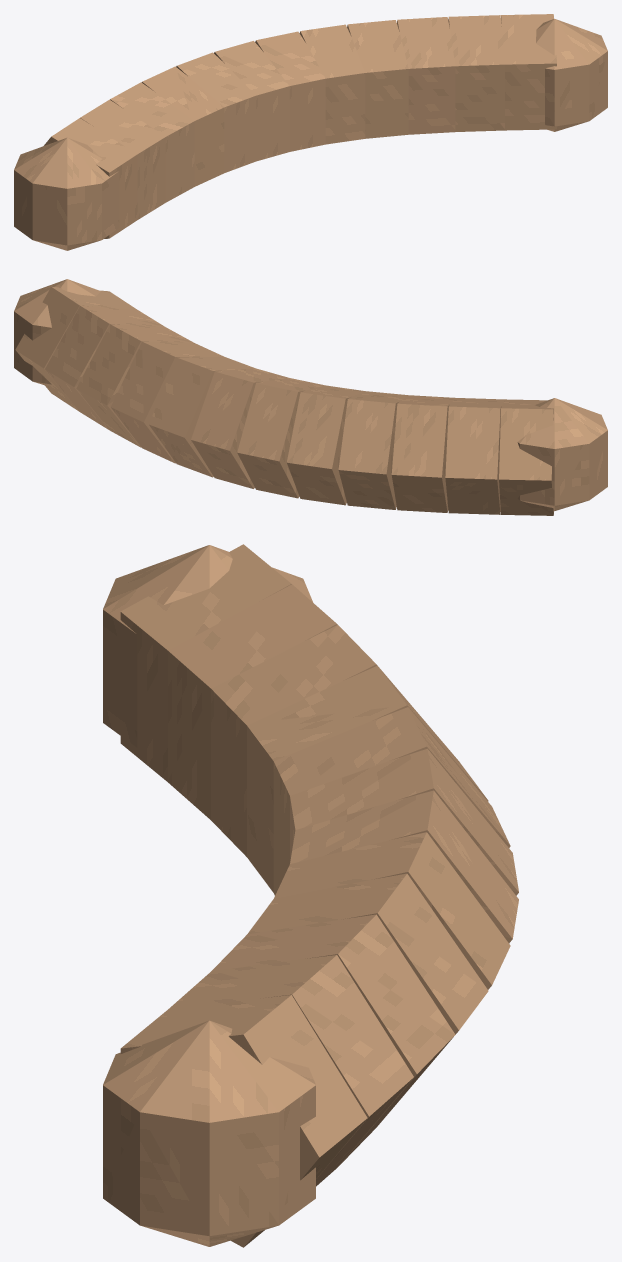
File: bratwurst_sausage.glb
3 views of the same model, one above another, from view 1: azimuth 30°, elevation 25°; view 2: azimuth 150°, elevation 25°; view 3: azimuth 270°, elevation 25° (orthographic). The views are drawn at different scales.
Parts seen in each view (by area): view 1: block_rounded end (×2), block_curved casing 10, block_curved casing 9, block_curved casing 8, block_curved casing 7, block_curved casing 11, block_curved casing 6, block_curved casing 5, block_curved casing 4, block_curved casing 3, block_curved casing 2, block_curved casing 1 (+1 smaller); view 2: block_rounded end (×2), block_curved casing 1, block_curved casing 2, block_curved casing 3, block_curved casing 4, block_curved casing 5, block_curved casing 6, block_curved casing 7, block_curved casing 0, block_curved casing 8, block_curved casing 9, block_curved casing 10 (+1 smaller); view 3: block_rounded end (×2), block_curved casing 10, block_curved casing 1, block_curved casing 9, block_curved casing 2, block_curved casing 11, block_curved casing 8, block_curved casing 0, block_curved casing 3, block_curved casing 7, block_curved casing 6, block_curved casing 4 (+1 smaller).
Boxes of the visible parts, box(x1,y1,x2,y2) form: block_rounded end (×2): box(14, 18, 607, 250); block_curved casing 10: box(448, 15, 504, 131); block_curved casing 9: box(397, 17, 455, 134); block_curved casing 8: box(347, 20, 408, 138); block_curved casing 7: box(299, 24, 365, 144); block_curved casing 11: box(501, 14, 556, 130); block_curved casing 6: box(255, 31, 325, 151); block_curved casing 5: box(214, 41, 289, 161); block_curved casing 4: box(176, 52, 255, 172); block_curved casing 3: box(141, 66, 224, 186); block_curved casing 2: box(110, 82, 194, 202); block_curved casing 1: box(80, 99, 165, 219); block_rounded end (×2): box(14, 279, 607, 511); block_curved casing 1: box(445, 398, 504, 514); block_curved casing 2: box(391, 395, 454, 512); block_curved casing 3: box(338, 391, 408, 509); block_curved casing 4: box(286, 385, 364, 505); block_curved casing 5: box(237, 378, 325, 498); block_curved casing 6: box(191, 368, 288, 488); block_curved casing 7: box(149, 356, 254, 477); block_curved casing 0: box(499, 399, 553, 515); block_curved casing 8: box(111, 341, 223, 463); block_curved casing 9: box(76, 324, 193, 447); block_curved casing 10: box(45, 305, 164, 430); block_rounded end (×2): box(103, 545, 315, 1246); block_curved casing 10: box(168, 955, 413, 1186); block_curved casing 1: box(168, 584, 337, 819); block_curved casing 9: box(211, 914, 455, 1166); block_curved casing 2: box(211, 625, 377, 856); block_curved casing 11: box(120, 995, 367, 1247); block_curved casing 8: box(247, 873, 488, 1034); block_curved casing 0: box(120, 544, 291, 781); block_curved casing 3: box(247, 665, 488, 892); block_curved casing 7: box(274, 832, 510, 989); block_curved casing 6: box(290, 790, 518, 943); block_curved casing 4: box(273, 707, 510, 895).
Bounding box in the file's own units: 0.1275 × 0.0239 × 0.0397.
1 material, 1 textured.
